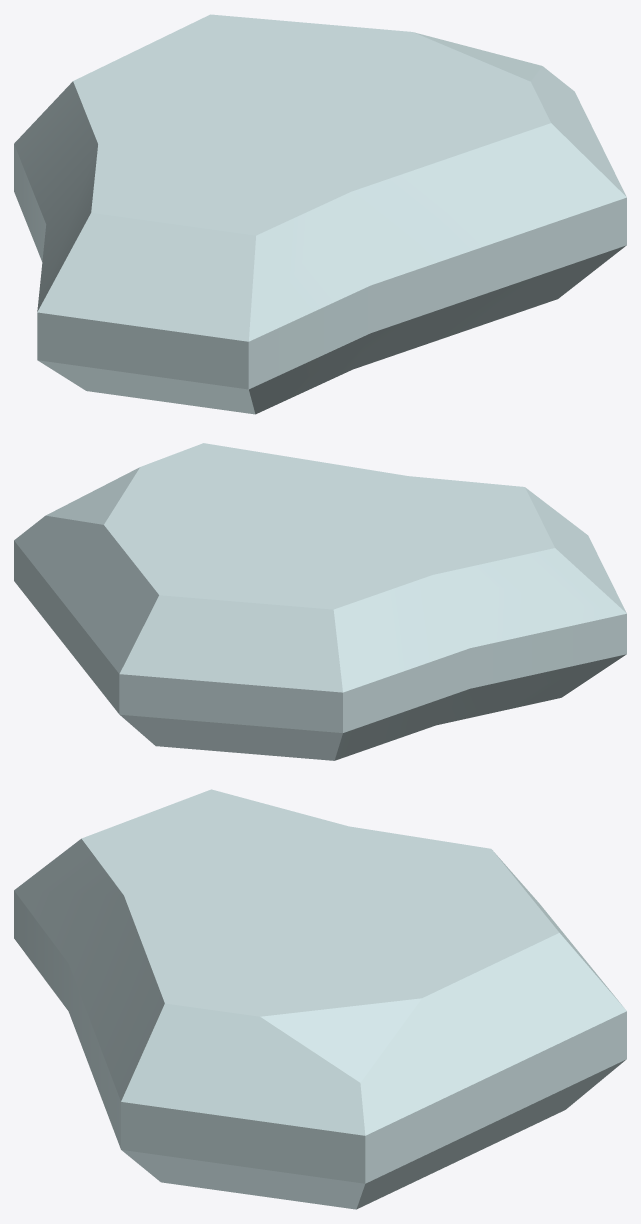
The model's file is stone_large5.glb.
3 renders of one model, top to bottom at view 1: azimuth 30°, elevation 25°; view 2: azimuth 150°, elevation 25°; view 3: azimuth 270°, elevation 25°, orthographic. The views are drawn at different scales.
Parts seen in each view (by area): view 1: stone_large5; view 2: stone_large5; view 3: stone_large5.
Boxes of the visible parts, x1,y1,x2,y2 form: stone_large5: (14, 14, 626, 414); stone_large5: (14, 443, 626, 760); stone_large5: (14, 789, 626, 1209).
Bounding box in the file's own units: 1.1 × 0.2922 × 0.9199.
